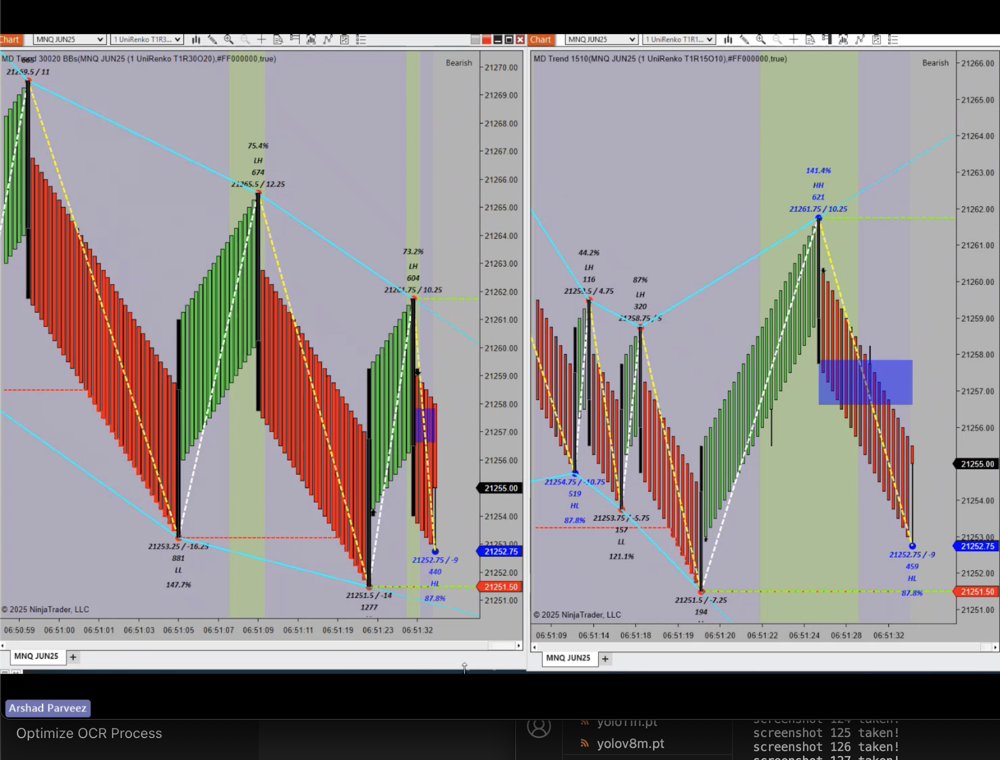HH: (804, 176, 839, 195)
HL: (901, 569, 928, 590), (563, 496, 587, 516), (424, 576, 447, 593)
LH: (246, 152, 271, 172), (577, 258, 601, 278), (631, 286, 654, 305), (400, 258, 424, 273)
LL: (167, 562, 193, 582), (613, 535, 631, 551)
